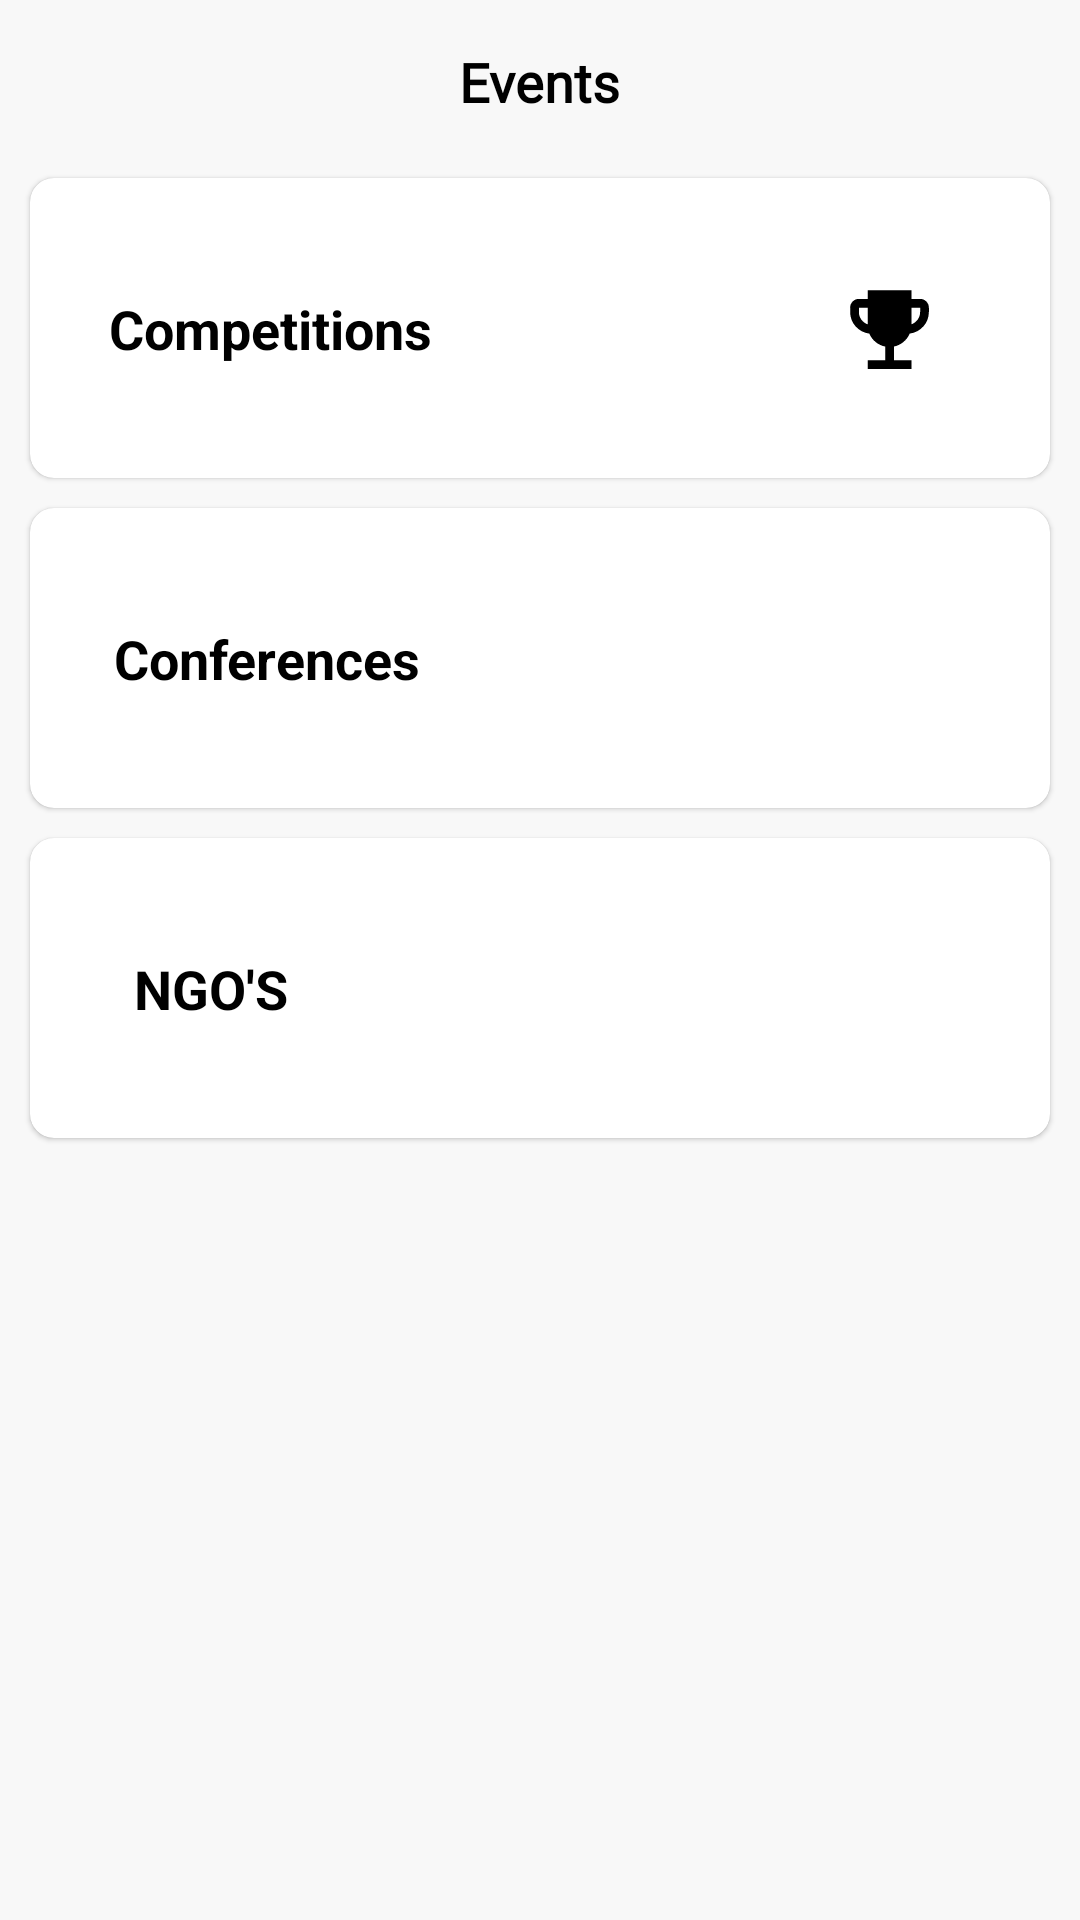

Locate icon controls on the screen. Image size 1080 x 1920, boxes as box=[x1, y1, x2, y2].
emoji events: box=[850, 290, 929, 369]
